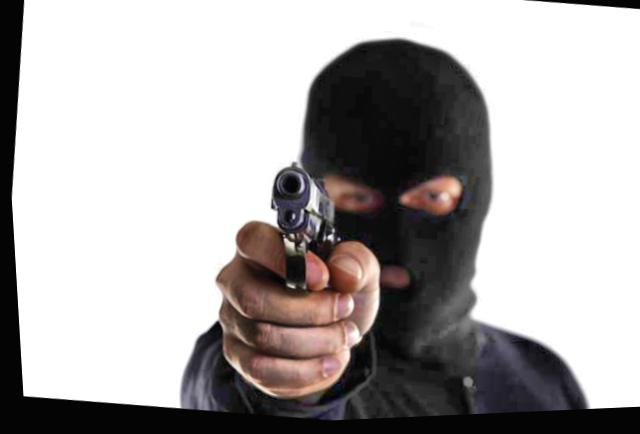pistol: (253, 160, 350, 300)
